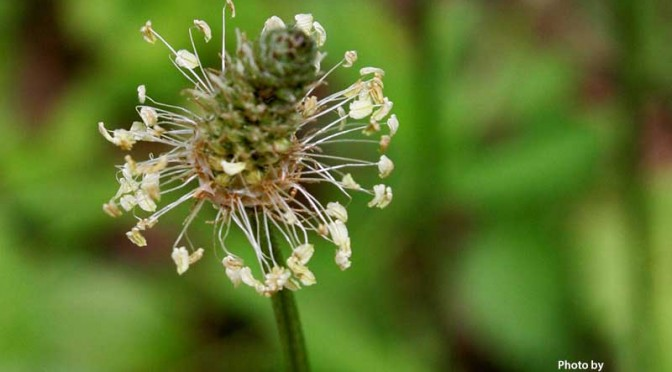buckhorn plantain: (107, 8, 390, 372)
